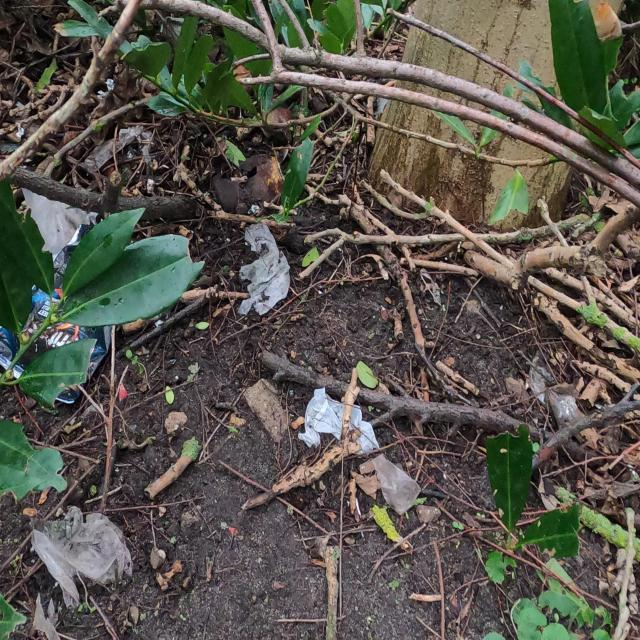Paper: (31, 503, 135, 611), (297, 384, 380, 458), (236, 218, 291, 317), (22, 186, 98, 256)
Plastic: (0, 222, 113, 408)
